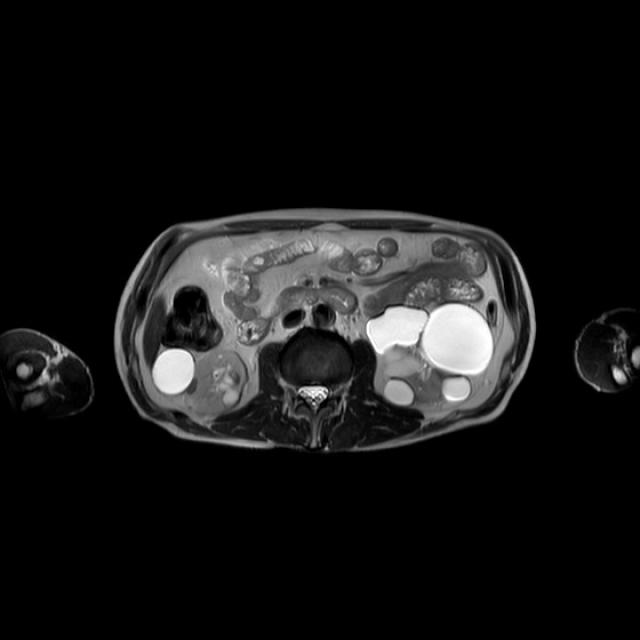sag: (151, 350, 248, 413)
sol: (368, 302, 493, 403)
